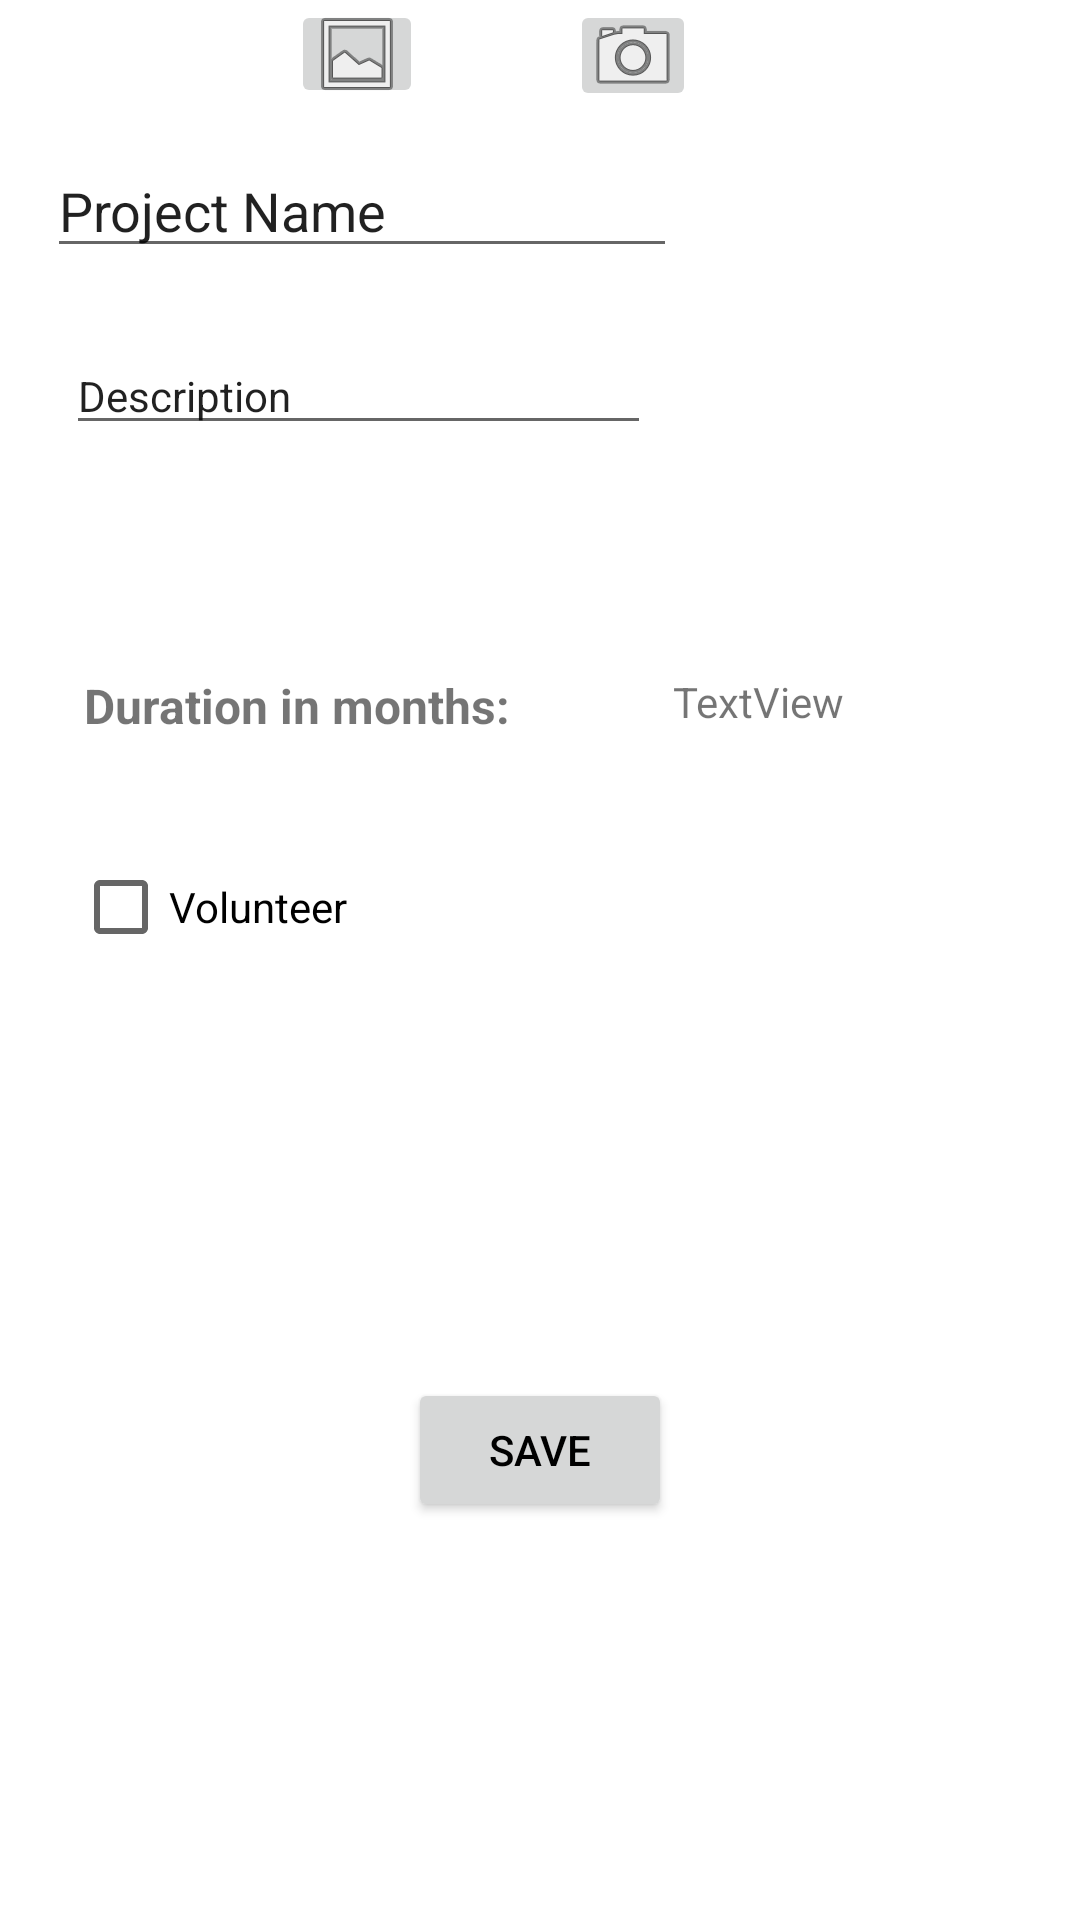

Named icons in this screenshot (1080w x 1920h) and their centers, [x,y]:
camera: [633,55]
gallery: [357,54]
